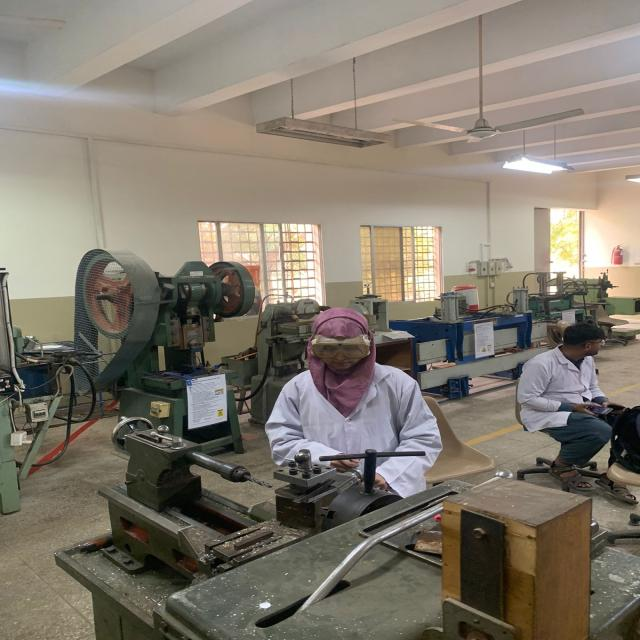googles: (310, 334, 370, 360)
labcoat: (259, 358, 444, 499), (513, 341, 607, 435)
